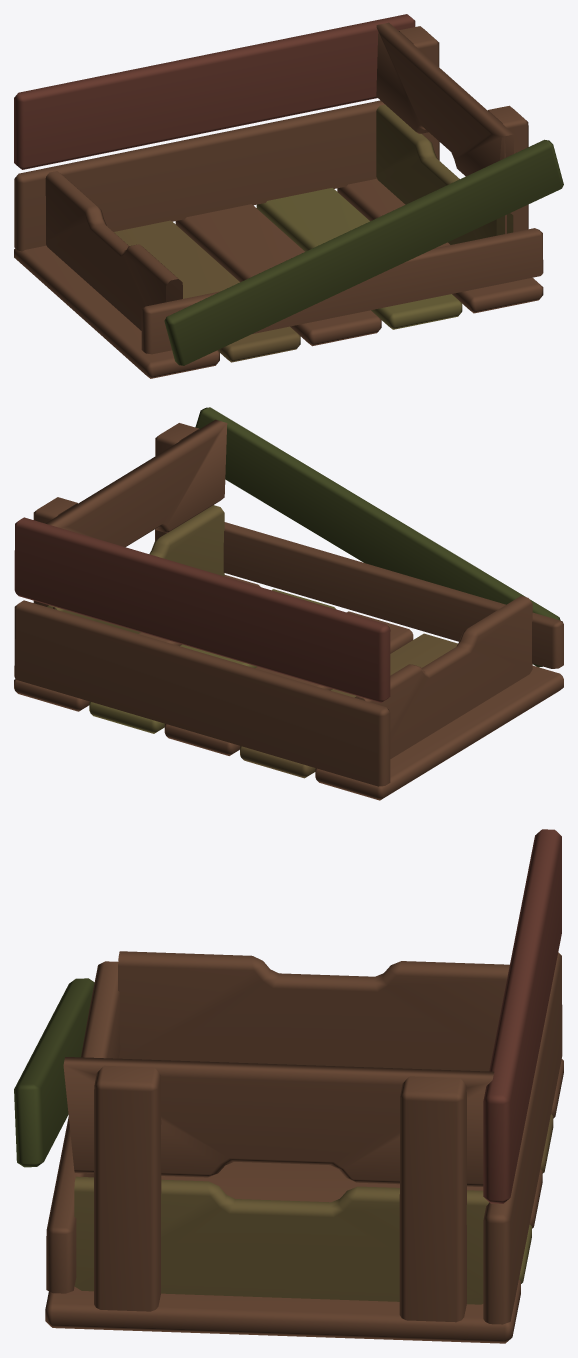
File: WoodCrate 2.fbx
3 views of the same model, one above another, from view 1: azimuth 30°, elevation 25°; view 2: azimuth 150°, elevation 25°; view 3: azimuth 270°, elevation 25° (orthographic). The views are drawn at different scales.
Visible parts, largest first — view 1: WoodCrate 2; view 2: WoodCrate 2; view 3: WoodCrate 2.
Boxes of the visible parts, box(x1,y1,x2,y2) form: WoodCrate 2: box(14, 14, 563, 378); WoodCrate 2: box(14, 407, 563, 800); WoodCrate 2: box(14, 829, 563, 1343).
Size of the model in its own units: 125 by 50.59 by 101.
